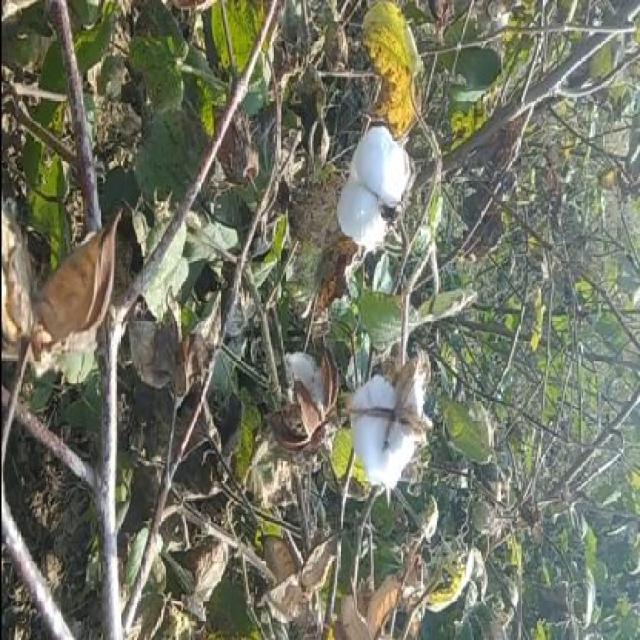cotton_ready: (334, 362, 438, 503), (338, 128, 416, 252)
